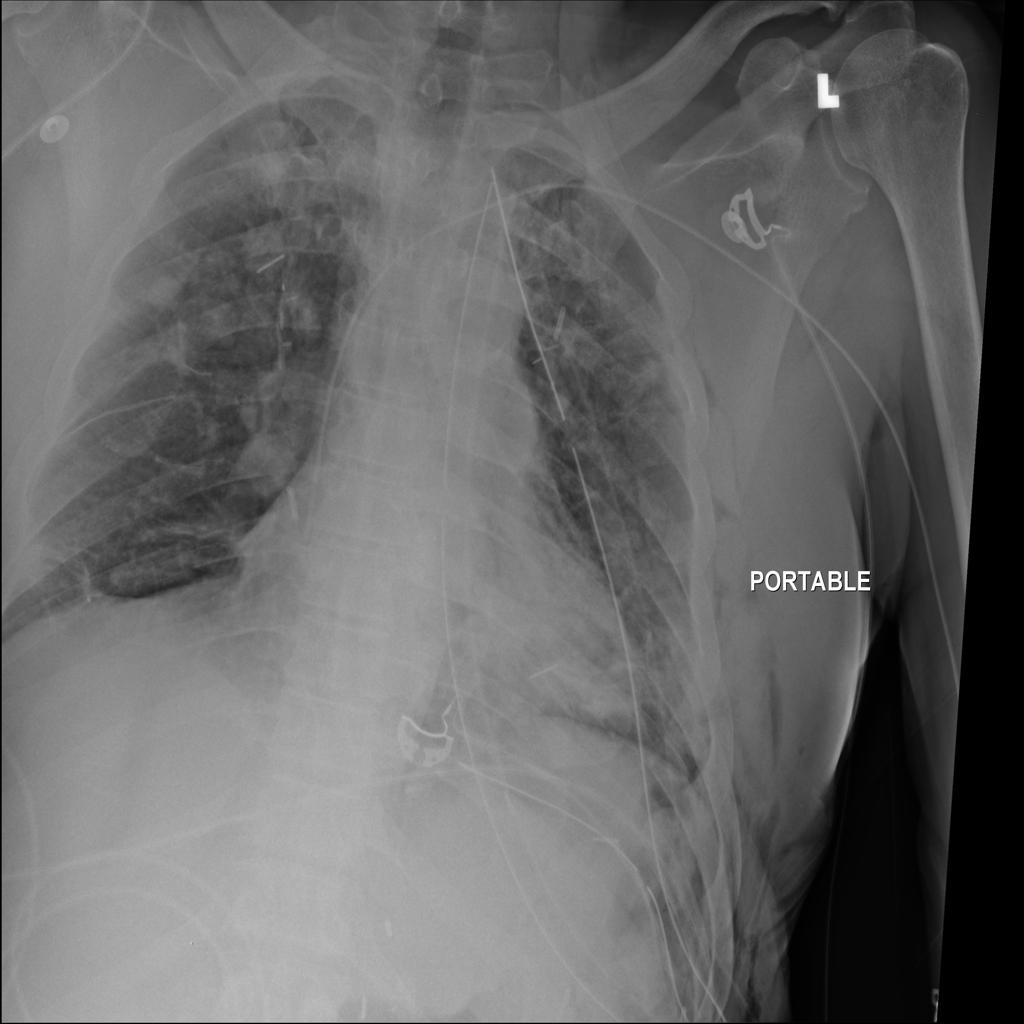nodule: (229, 423, 307, 506), (231, 109, 306, 189), (233, 213, 298, 287), (185, 280, 250, 354), (136, 266, 188, 316)
